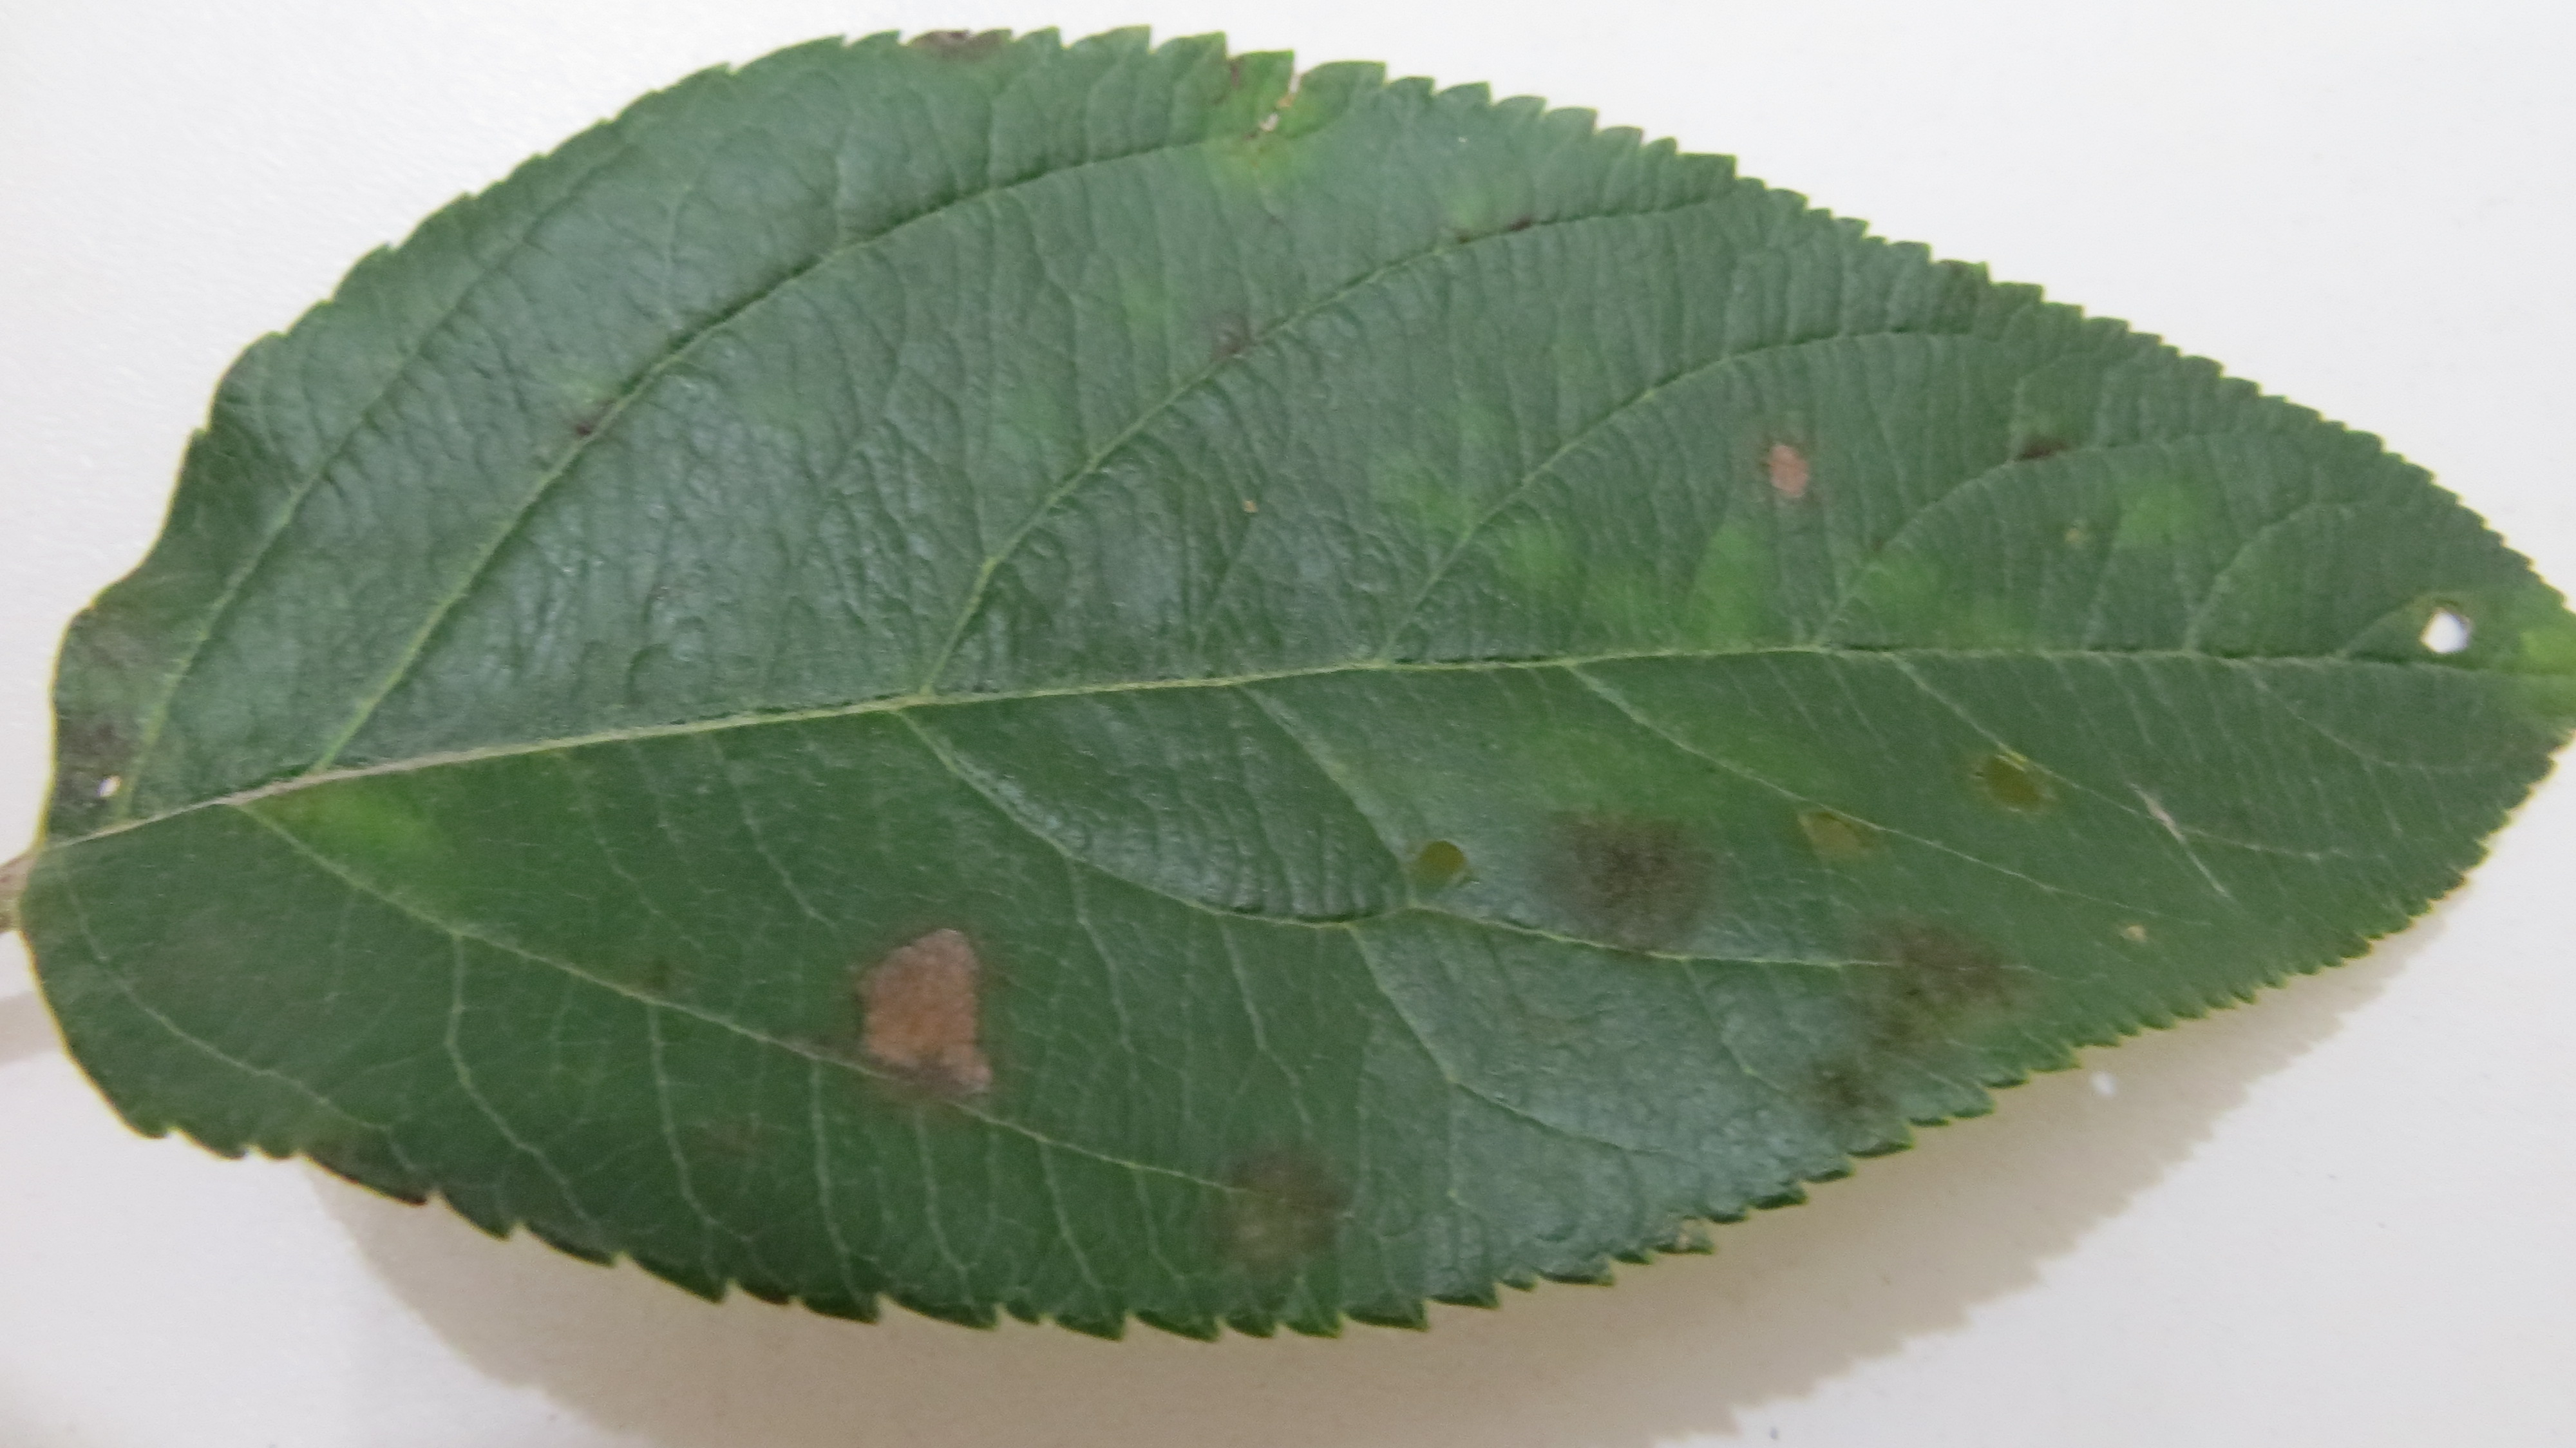sarna: (1537, 786, 1741, 963), (837, 910, 1014, 1099), (1185, 1128, 1382, 1289), (1851, 905, 2051, 1048), (1767, 1028, 1902, 1154), (1734, 400, 1844, 517)
